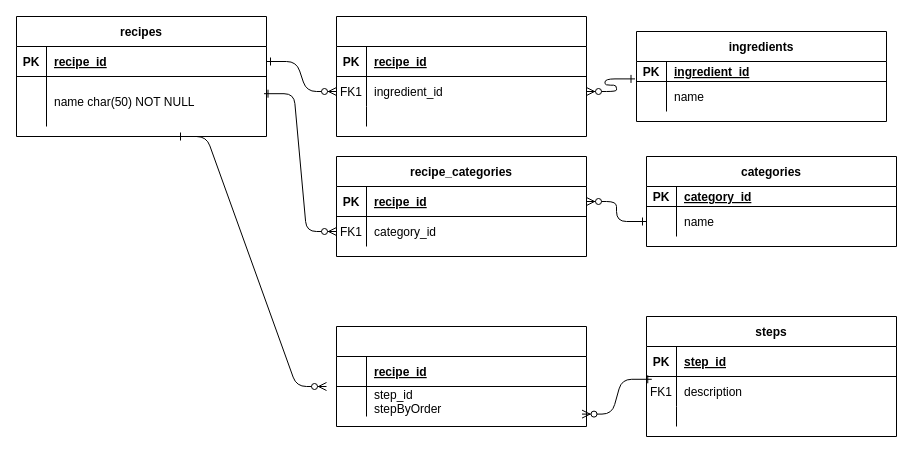
The diagram is 913 pixels wide and 453 high, and some of its shapes have lost their labels. The box of each missing label's shape, as (x1, y1, x2, y2) in pixels:
recipe_ingredients: (336, 16, 586, 136)
recipe_steps: (336, 326, 586, 426)
